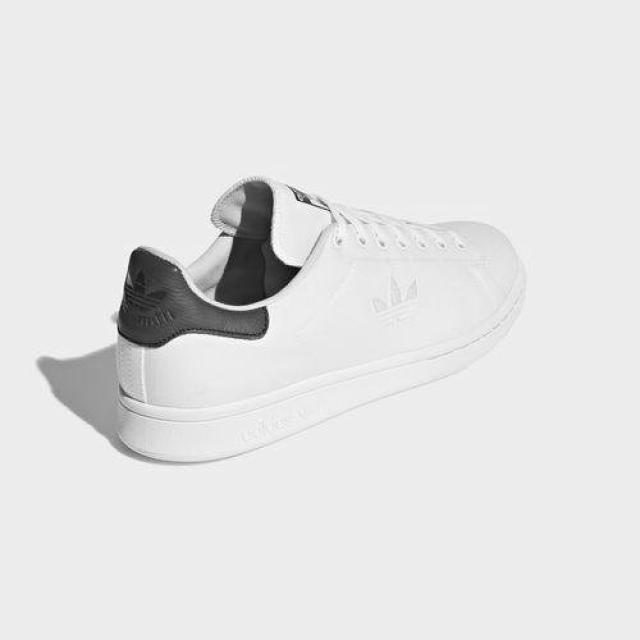Adidas: (122, 260, 178, 336)
